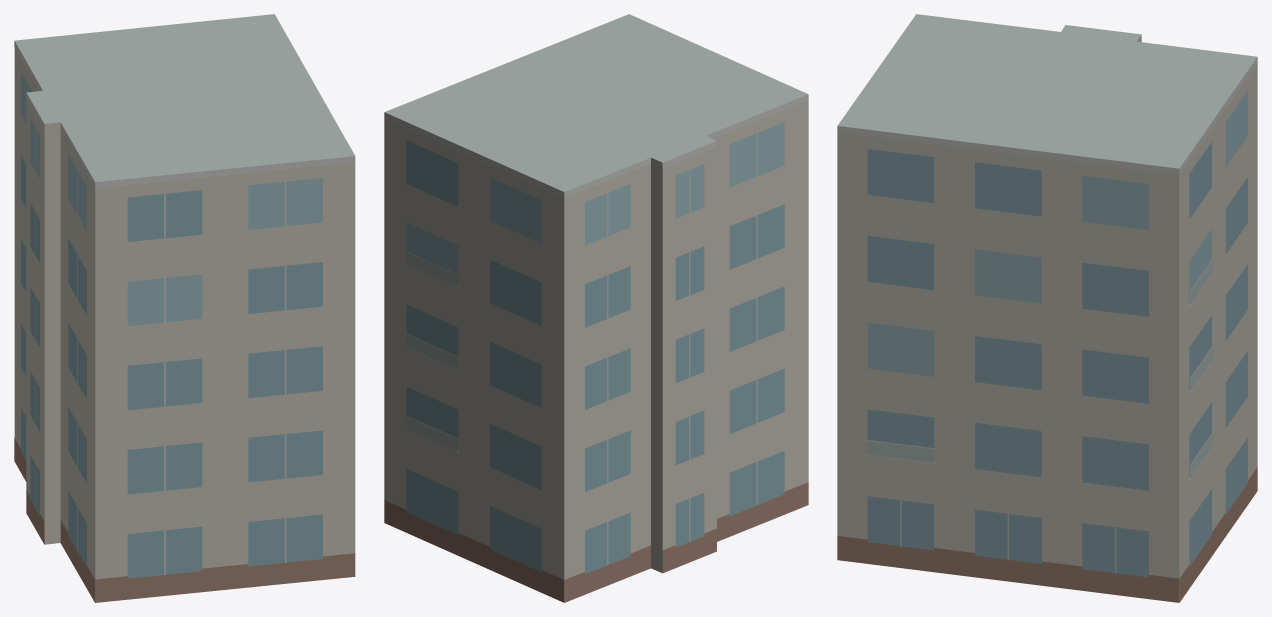
The model's file is survey-upis-32882270.glb.
3 renders of one model, left to right at view 1: azimuth 30°, elevation 25°; view 2: azimuth 150°, elevation 25°; view 3: azimuth 270°, elevation 25°, orthographic. The views are drawn at different scales.
Parts seen in each view (by area): view 1: survey-upis-32882270.tmp; view 2: survey-upis-32882270.tmp; view 3: survey-upis-32882270.tmp.
Part boxes in pixels (x1,y1,x2,y2): survey-upis-32882270.tmp: (14,14,355,602); survey-upis-32882270.tmp: (384,14,808,602); survey-upis-32882270.tmp: (837,14,1257,602).
Bounding box in the file's own units: 12.46 × 16.3 × 14.31.
